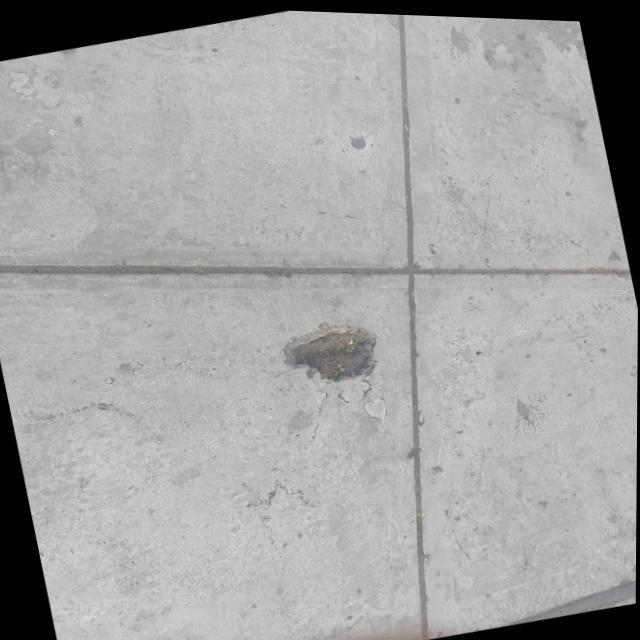hole: (280, 310, 388, 394)
